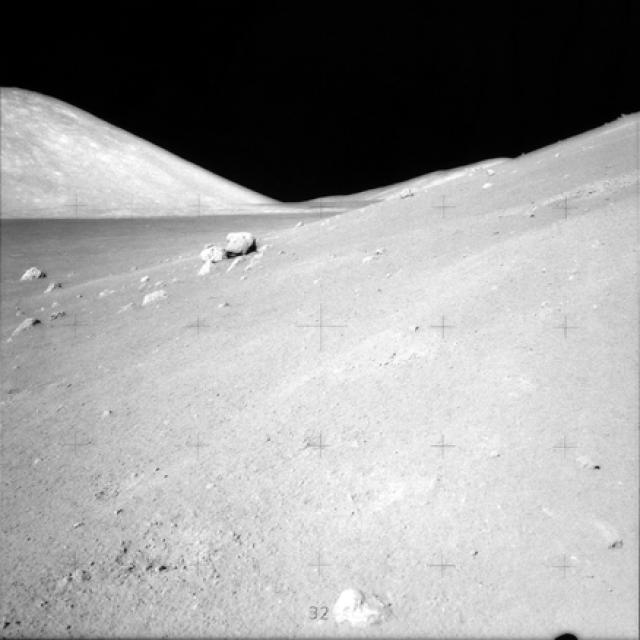rock: (318, 568, 396, 629), (222, 219, 257, 258), (128, 286, 171, 313), (10, 306, 41, 340), (192, 237, 221, 268), (15, 256, 47, 280), (42, 278, 70, 299)
